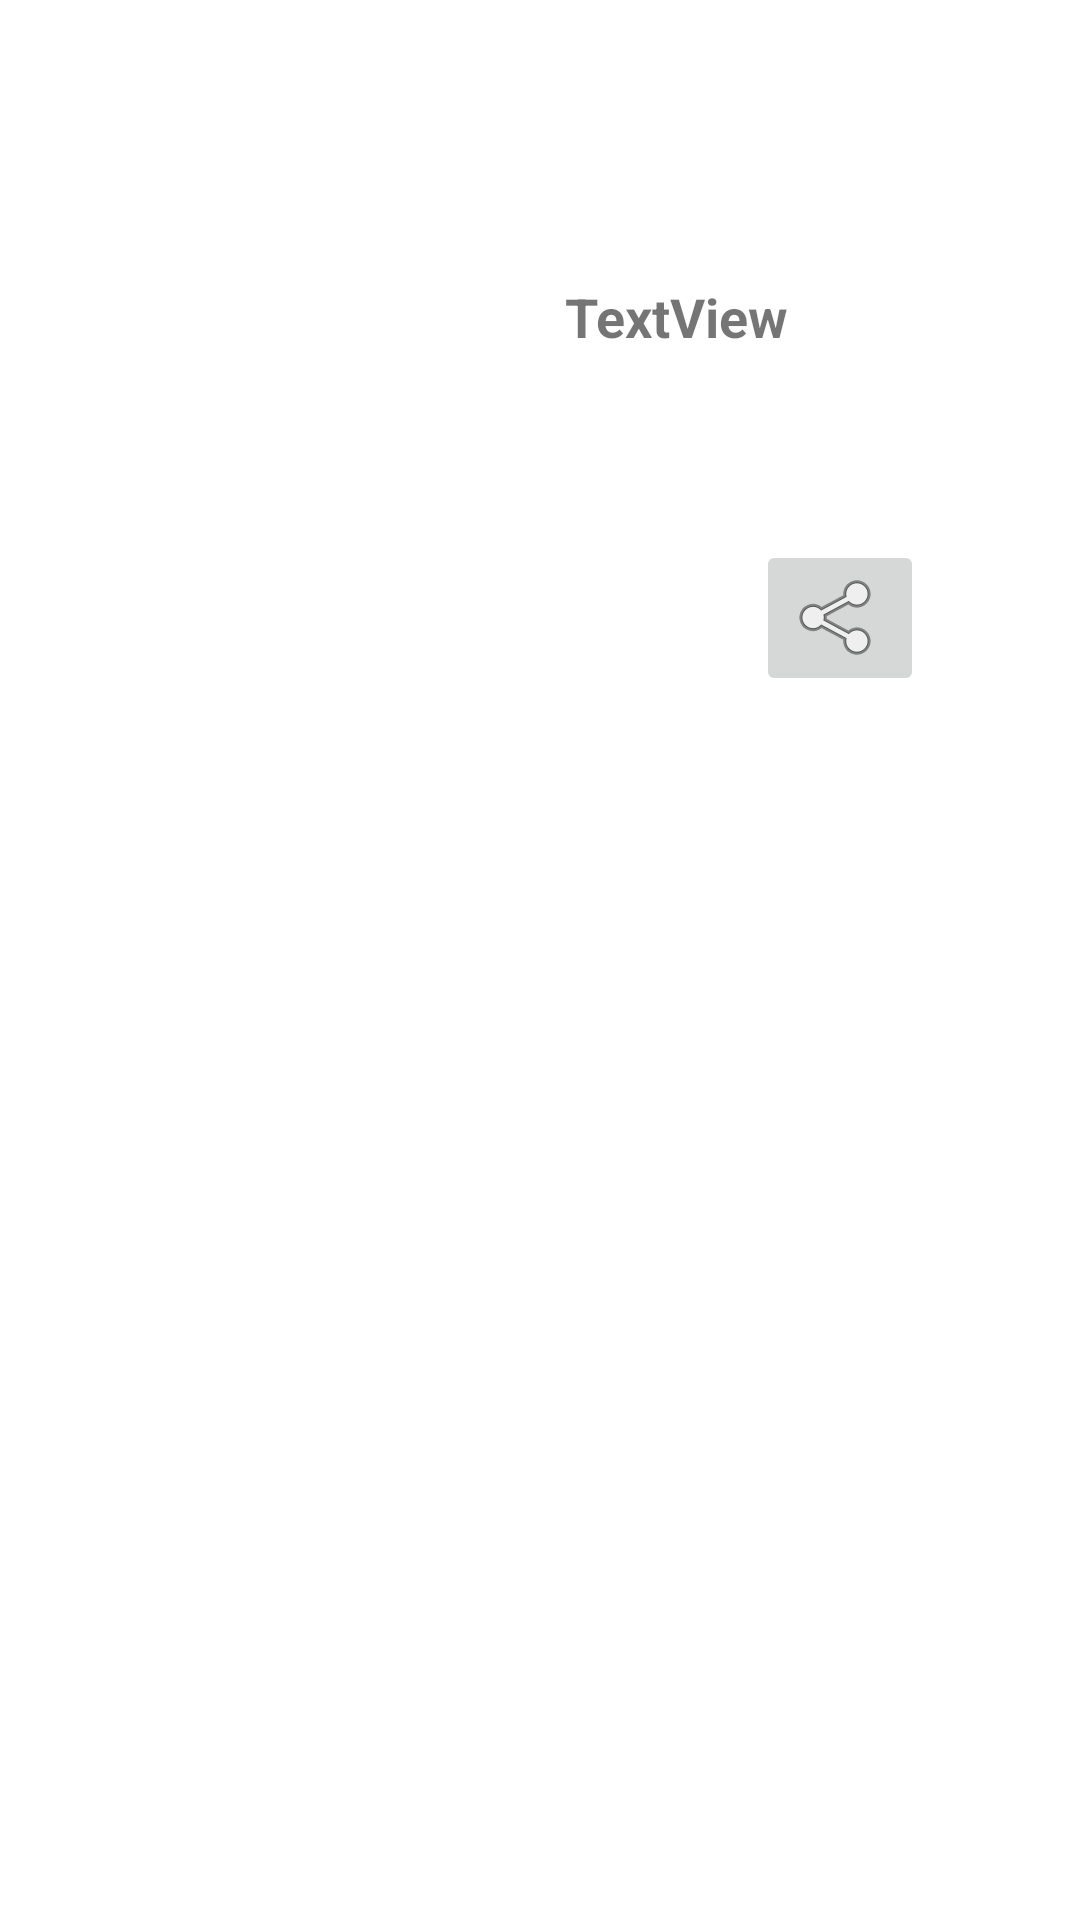

Icons on this 1080×1920 Android screen, each with its box as [left=x1, top=y1, right=x2, bottom=y2]:
share: [left=768, top=558, right=912, bottom=678]
